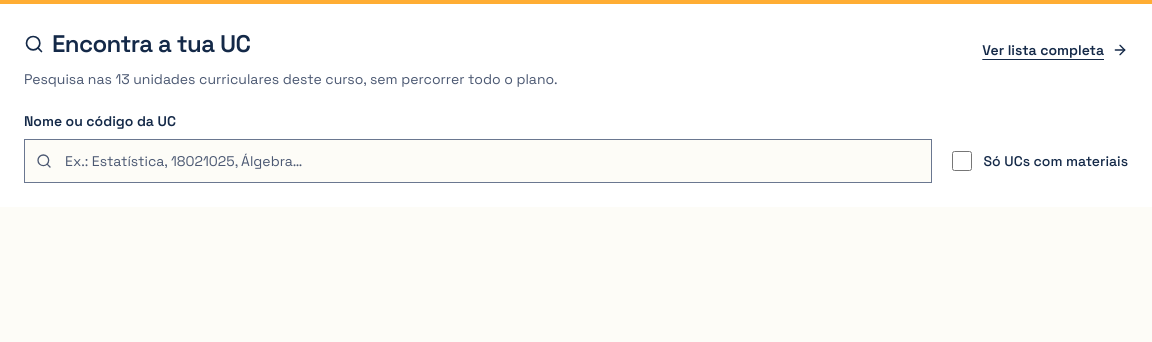
it: CourseUnitQuickFinder › returns keyboard focus to the search field after clearing
Type "1432100" into the search field labelled "Nome ou código da UC". click: (478, 161)
box: [24,139,932,183]
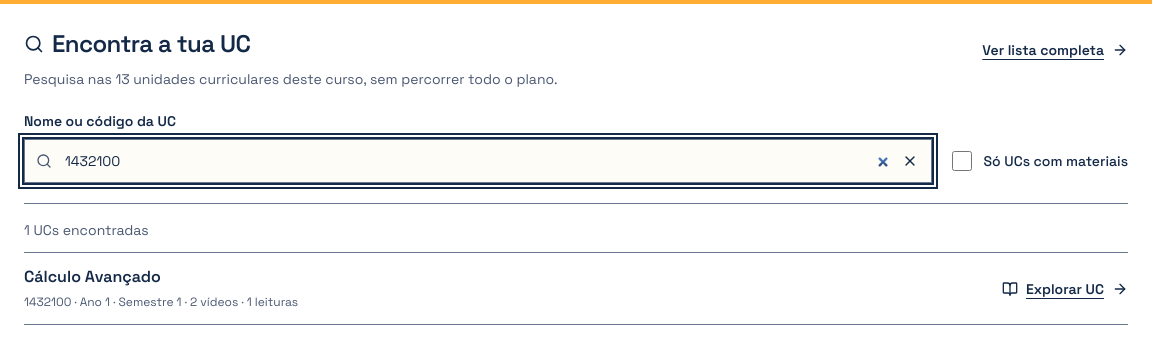
Click the button named "Limpar pesquisa". click: (910, 161)
box: [892,143,928,179]
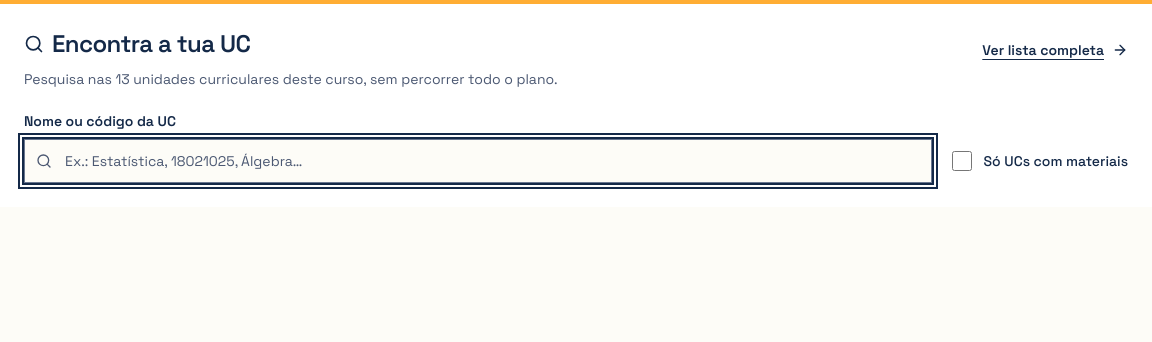
expect the search field labelled "Nome ou código da UC" is empty: met, box [24,139,932,183]
